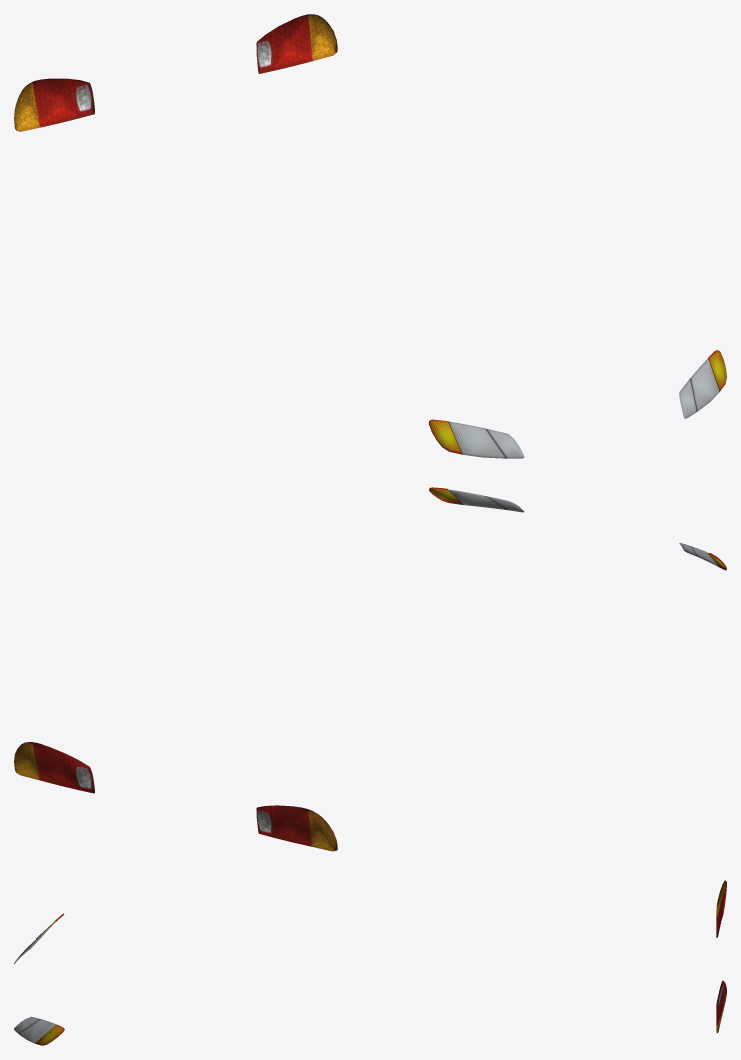
The model's file is object_16_lev2.glb.
The picture shows the model from 3 angles, top to bottom: view 1: azimuth 30°, elevation 25°; view 2: azimuth 150°, elevation 25°; view 3: azimuth 270°, elevation 25°; orthographic projection. The views are drawn at different scales.
Parts seen in each view (by area): view 1: object_16_lev2; view 2: object_16_lev2; view 3: object_16_lev2.
Part boxes in pixels (bbox=[...]): object_16_lev2: bbox=[14, 14, 726, 458]; object_16_lev2: bbox=[14, 487, 726, 851]; object_16_lev2: bbox=[14, 880, 726, 1045].
Bounding box in the file's own units: 1.9 × 0.4144 × 4.41.
1 material, 1 textured.
